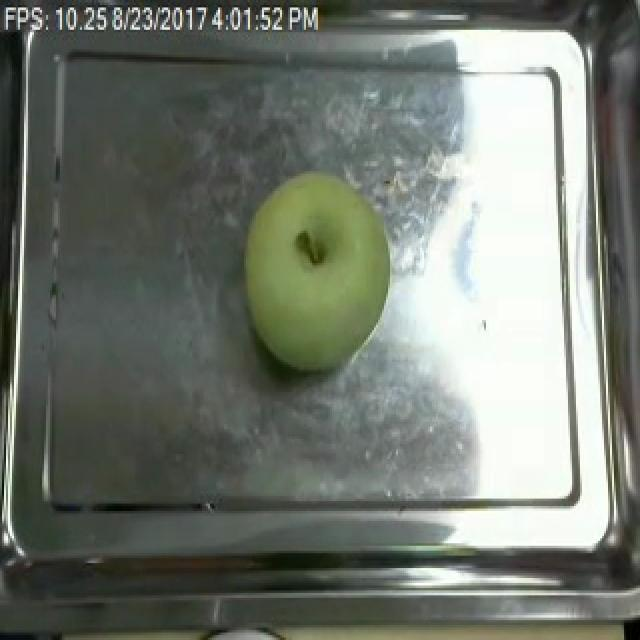50-_ripeness: (232, 161, 402, 384)
